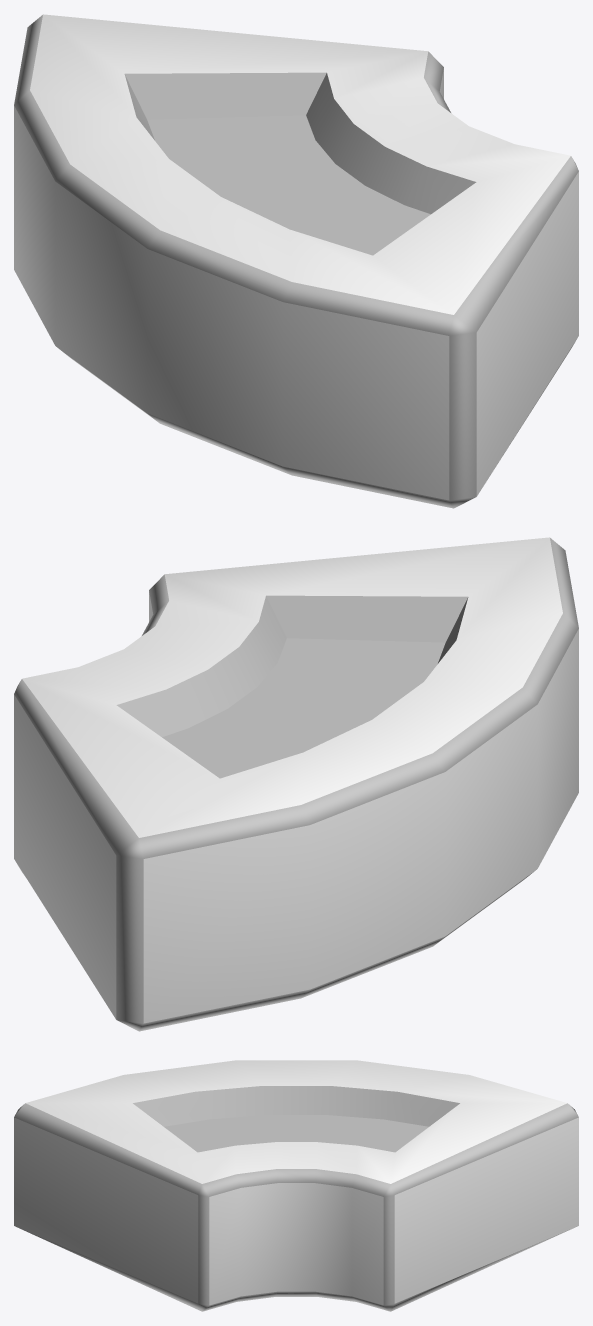
File: Brick_LOD2_45 Deg.fbx
3 renders of one model, top to bottom at view 1: azimuth 30°, elevation 25°; view 2: azimuth 150°, elevation 25°; view 3: azimuth 270°, elevation 25°, orthographic. The views are drawn at different scales.
Visible parts, largest first — view 1: Brick_LOD2; view 2: Brick_LOD2; view 3: Brick_LOD2.
Boxes of the visible parts, x1,y1,x2,y2 form: Brick_LOD2: (14, 14, 578, 508); Brick_LOD2: (14, 537, 578, 1031); Brick_LOD2: (14, 1060, 578, 1311).
Bounding box in the file's own units: 1.1 × 0.5 × 2.
Materials: 1 (1 with a texture image).
